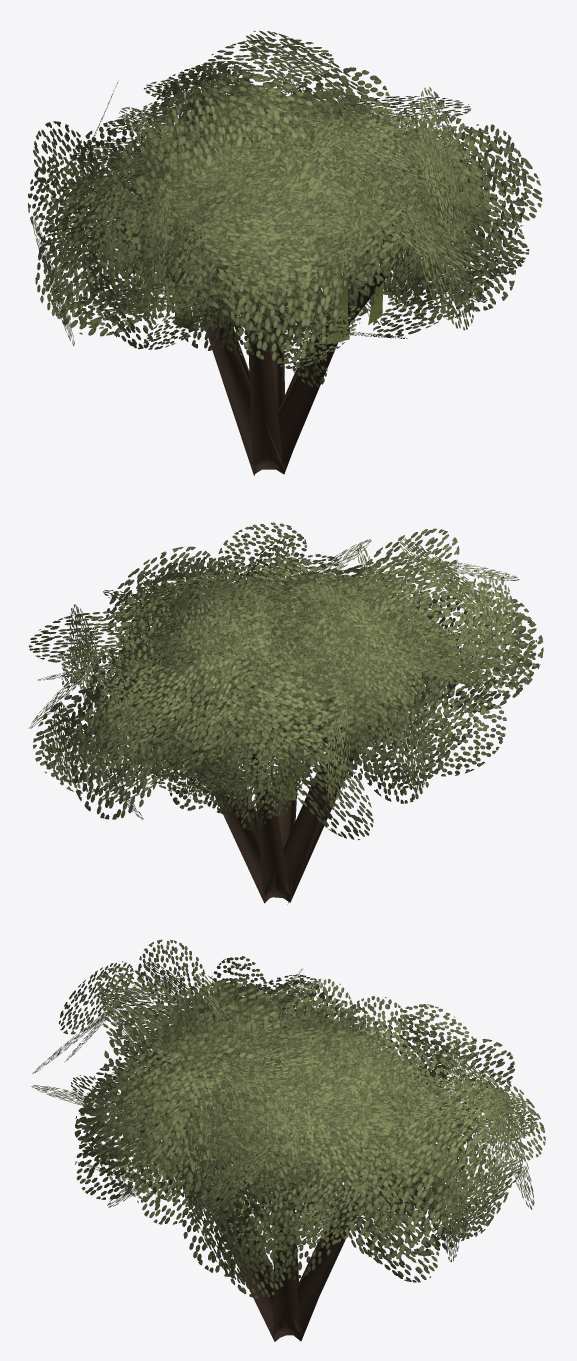
File: caral_pacae_lod0.glb
3 views of the same model, one above another, from view 1: azimuth 30°, elevation 25°; view 2: azimuth 150°, elevation 25°; view 3: azimuth 270°, elevation 25° (orthographic). The views are drawn at different scales.
Parts seen in each view (by area): view 1: GEO-Kit_pacae_LOD0; view 2: GEO-Kit_pacae_LOD0; view 3: GEO-Kit_pacae_LOD0.
Part boxes in pixels (left/top/right/bottom): GEO-Kit_pacae_LOD0: left=27, top=30, right=542, bottom=475; GEO-Kit_pacae_LOD0: left=28, top=522, right=543, bottom=904; GEO-Kit_pacae_LOD0: left=31, top=939, right=545, bottom=1341.
Size of the model in its own units: 1.92 by 1.47 by 2.07.
Materials: 3 (1 with a texture image).
